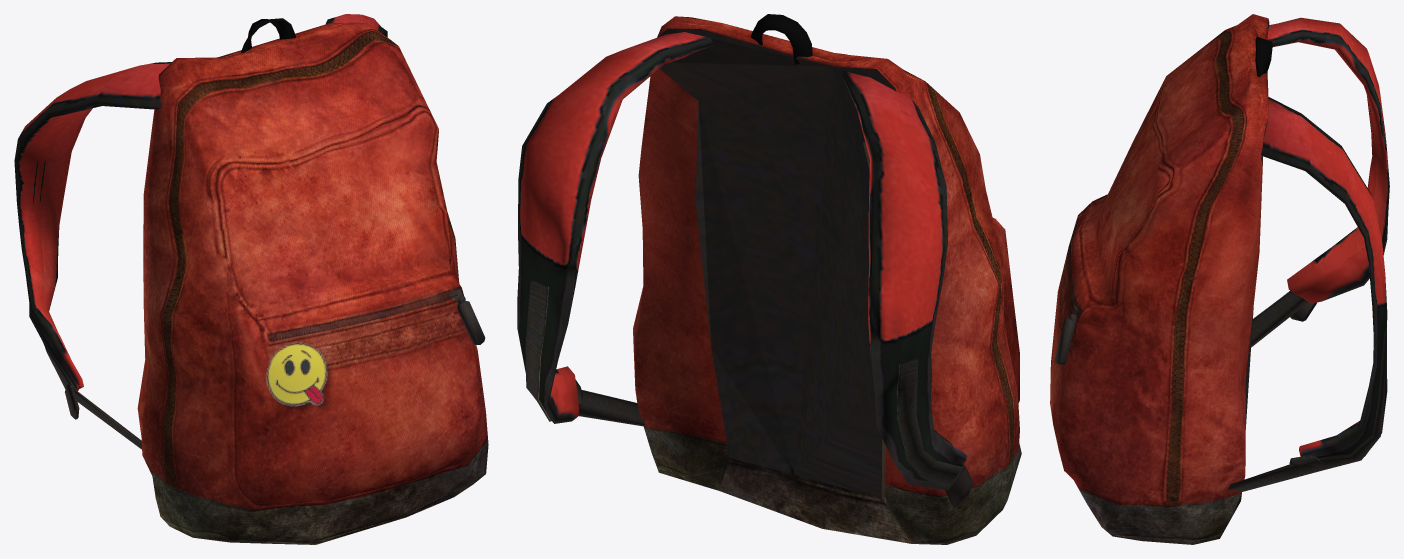
Rendered from Backpack.FBX.
3 views of the same model, side by side, from view 1: azimuth 30°, elevation 25°; view 2: azimuth 150°, elevation 25°; view 3: azimuth 270°, elevation 25° (orthographic). The views are drawn at different scales.
Visible parts, largest first — view 1: backpack; view 2: backpack; view 3: backpack.
Part boxes in pixels (left/top/right/bottom): backpack: left=14, top=14, right=488, bottom=544; backpack: left=517, top=14, right=1021, bottom=544; backpack: left=1050, top=14, right=1389, bottom=544.
Size of the model in its own units: 47.55 by 56.74 by 38.16.
Materials: 1 (1 with a texture image).
